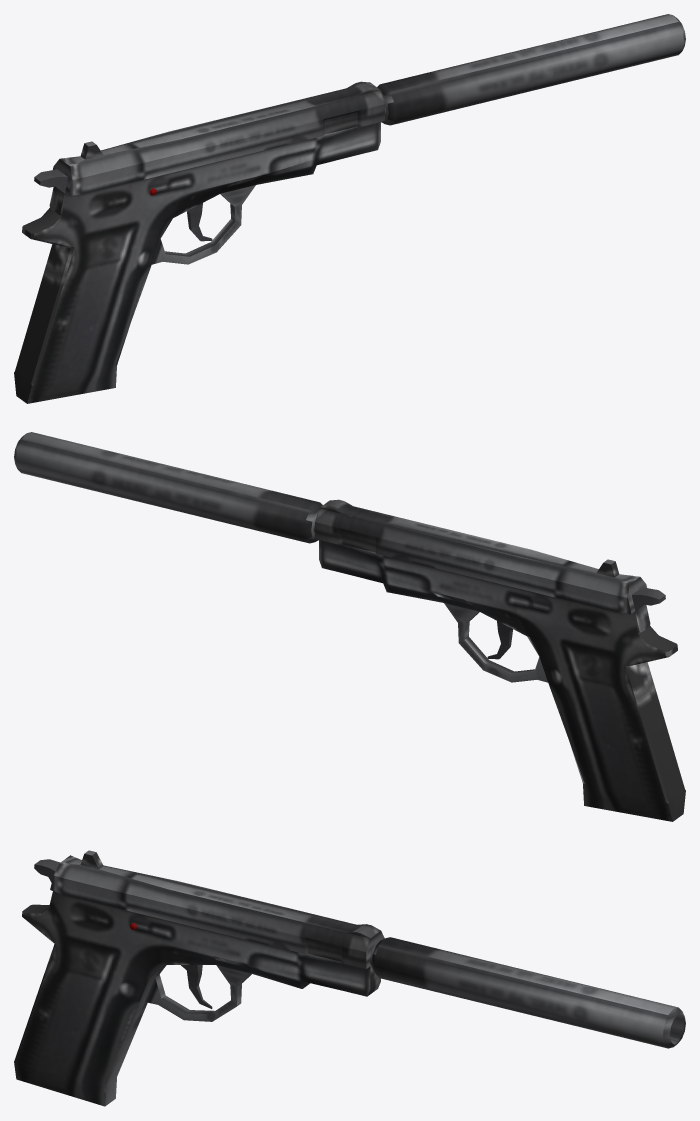
3 renders of one model, top to bottom at view 1: azimuth 30°, elevation 25°; view 2: azimuth 150°, elevation 25°; view 3: azimuth 330°, elevation 25°, orthographic.
Visible parts, largest first — view 1: gunbottom, guntop, suppressor; view 2: gunbottom, guntop, suppressor; view 3: gunbottom, guntop, suppressor, trigger.
Part boxes in pixels (x1,y1,x2,y2): gunbottom: [14, 122, 380, 403]; guntop: [53, 81, 384, 195]; suppressor: [377, 14, 685, 125]; gunbottom: [319, 540, 685, 821]; guntop: [315, 499, 646, 613]; suppressor: [14, 432, 322, 543]; gunbottom: [14, 891, 380, 1106]; guntop: [50, 850, 384, 968]; suppressor: [371, 937, 685, 1048]; trigger: [181, 965, 212, 1008].
Bounding box in the file's own units: 2.64 × 0.9407 × 0.1516.
1 material, 1 textured.
